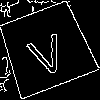V: (22, 24, 70, 79)
